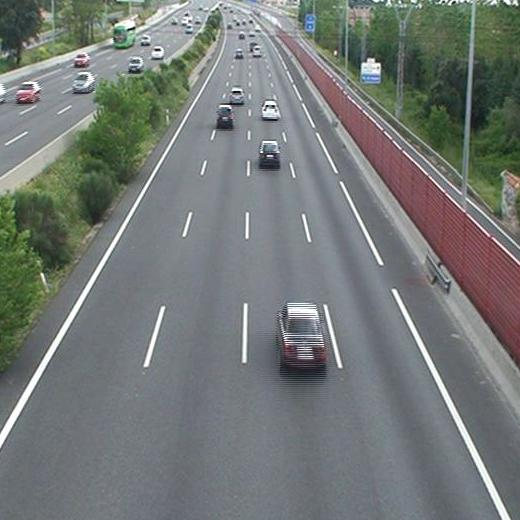car: (278, 304, 327, 369), (258, 142, 281, 164), (216, 105, 234, 126), (261, 101, 279, 119), (229, 87, 244, 104), (253, 47, 261, 57), (234, 50, 242, 59), (237, 32, 246, 40)
